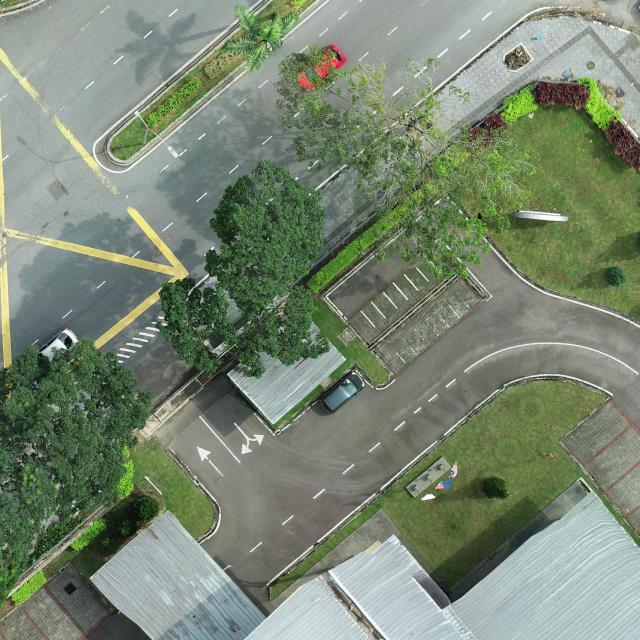Tree: (274, 45, 541, 281), (0, 337, 156, 591), (154, 158, 330, 380), (218, 3, 299, 72), (480, 476, 510, 500)
